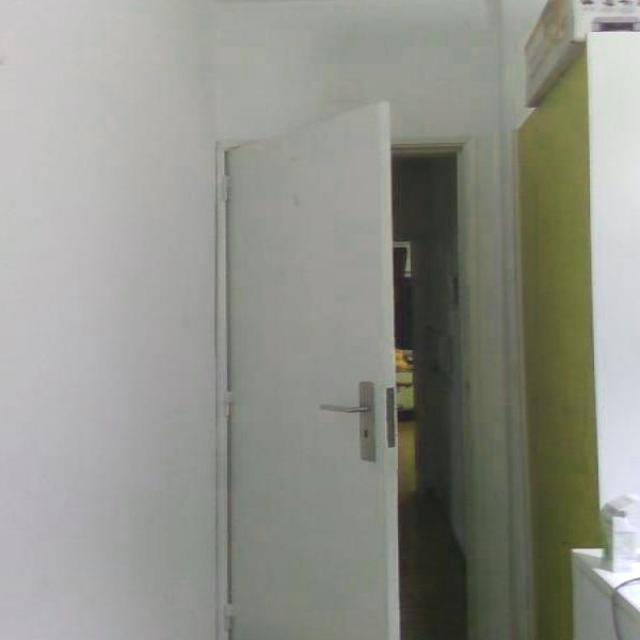door: (218, 99, 400, 638)
